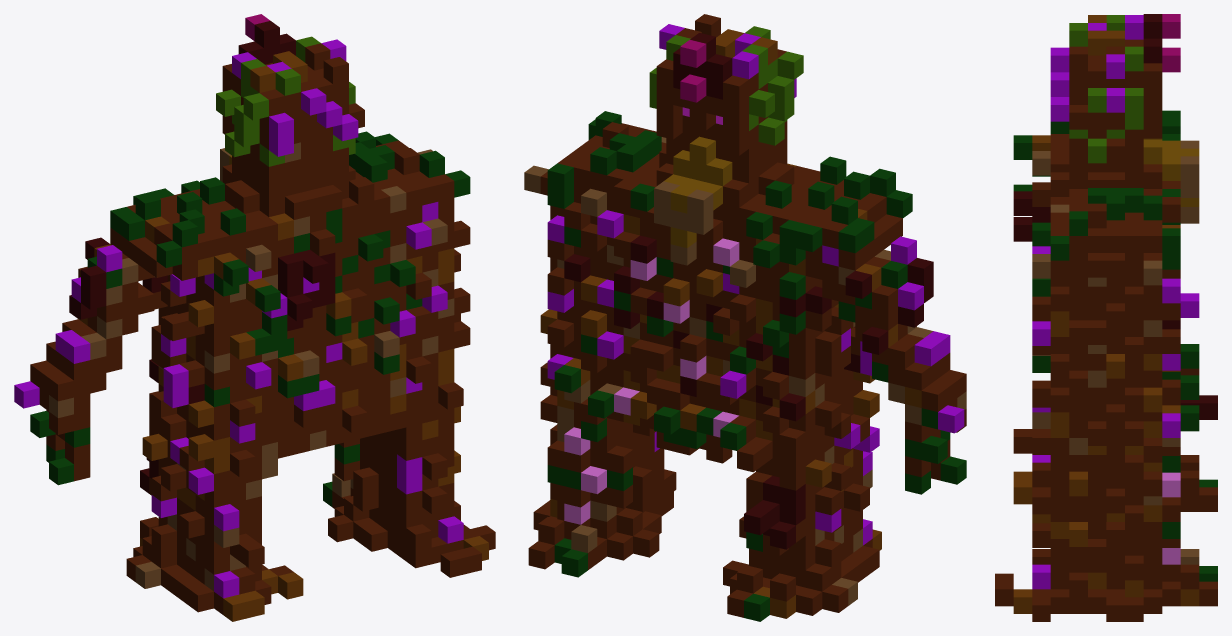
Rendered from Maria_Jose_Castaño_Celis_fase_4.obj.
The picture shows the model from 3 angles, left to right: view 1: azimuth 30°, elevation 25°; view 2: azimuth 150°, elevation 25°; view 3: azimuth 270°, elevation 25°; orthographic projection. The views are drawn at different scales.
Visible parts, largest first — view 1: Maria_Jose_Castaño_Celis_fase_4; view 2: Maria_Jose_Castaño_Celis_fase_4; view 3: Maria_Jose_Castaño_Celis_fase_4.
Boxes of the visible parts, x1,y1,x2,y2 form: Maria_Jose_Castaño_Celis_fase_4: (14,14,495,621); Maria_Jose_Castaño_Celis_fase_4: (524,14,966,621); Maria_Jose_Castaño_Celis_fase_4: (995,14,1217,621).
Size of the model in its own units: 26 by 31 by 12.
Materials: 1 (1 with a texture image).
